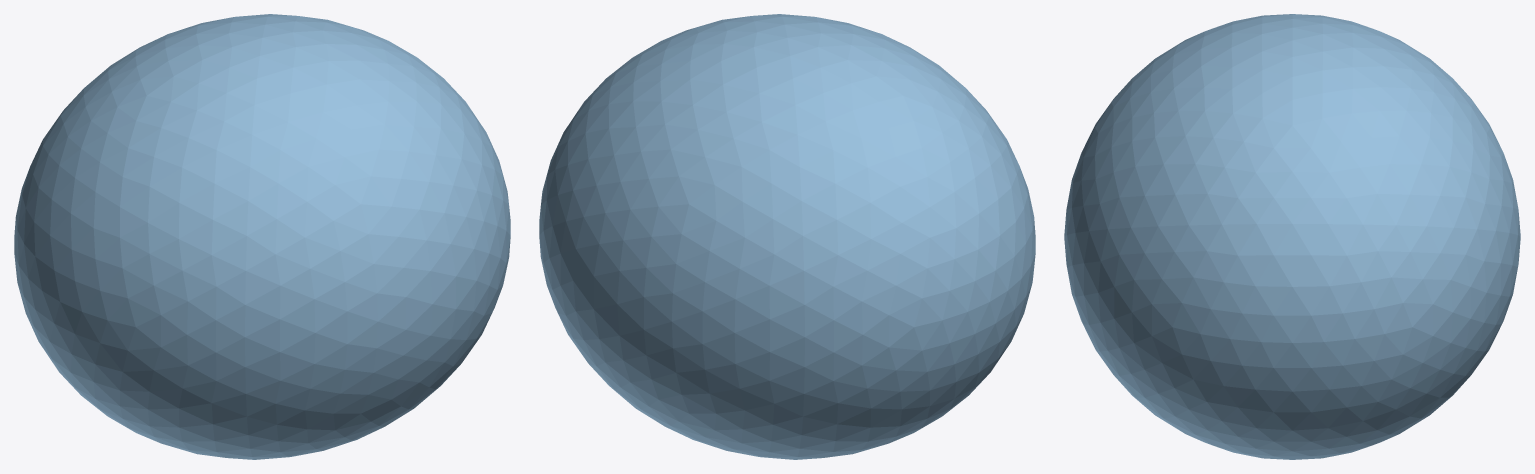
The model's file is rsaf_sikh_turban.glb.
3 views of the same model, side by side, from view 1: azimuth 30°, elevation 25°; view 2: azimuth 150°, elevation 25°; view 3: azimuth 270°, elevation 25° (orthographic).
Visible parts, largest first — view 1: turban; view 2: turban; view 3: turban.
Boxes of the visible parts, <box> form: turban: <box>14,14,510,459</box>; turban: <box>539,14,1035,459</box>; turban: <box>1064,14,1520,459</box>.
Bounding box in the file's own units: 0.198 × 0.171 × 0.18.
